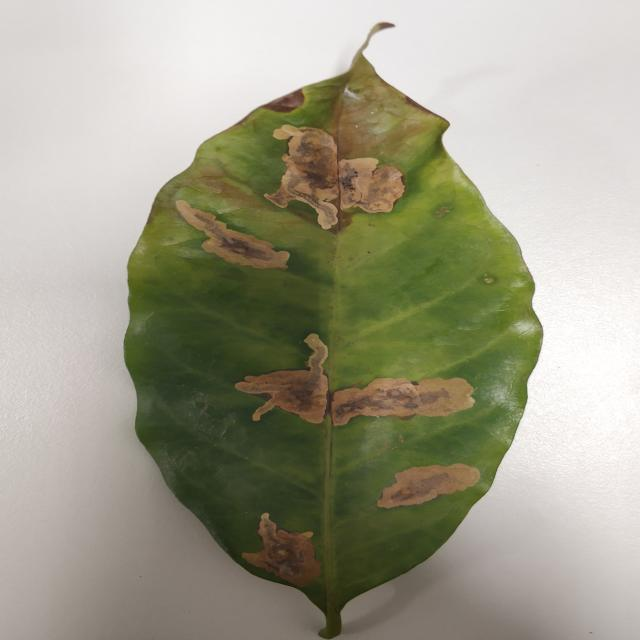Plaga-Minador: (123, 23, 544, 640)
